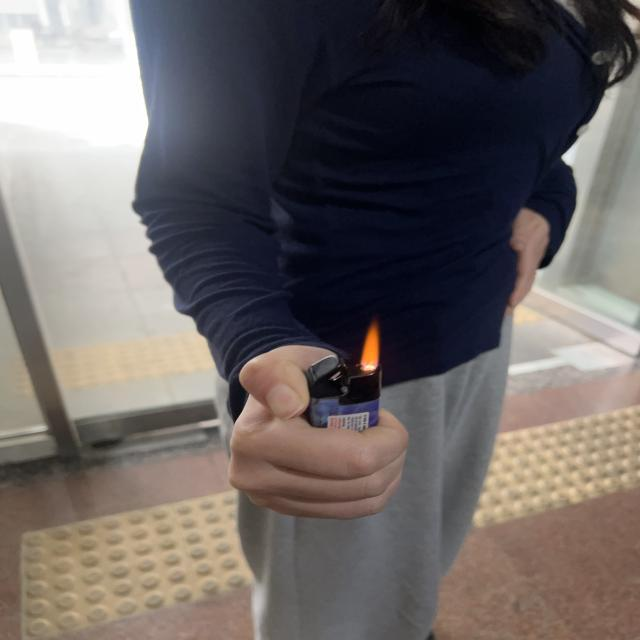fire: (358, 320, 381, 374)
